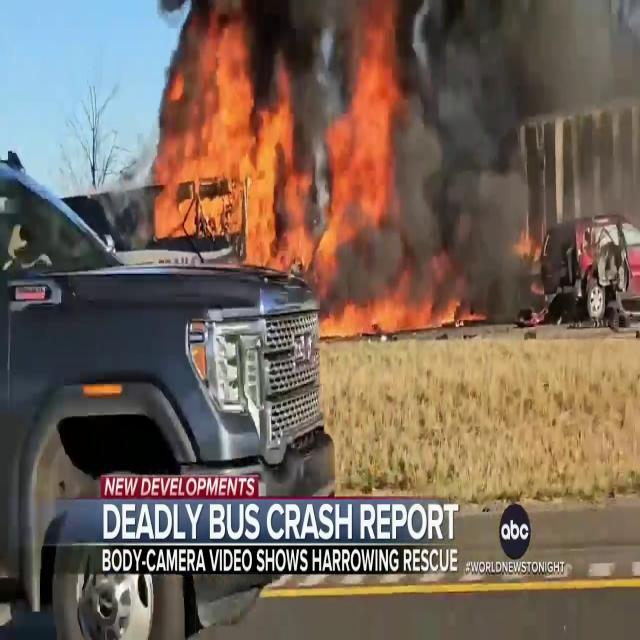Fire: (143, 11, 407, 282), (322, 272, 478, 336)
Smoke: (395, 0, 565, 301)
